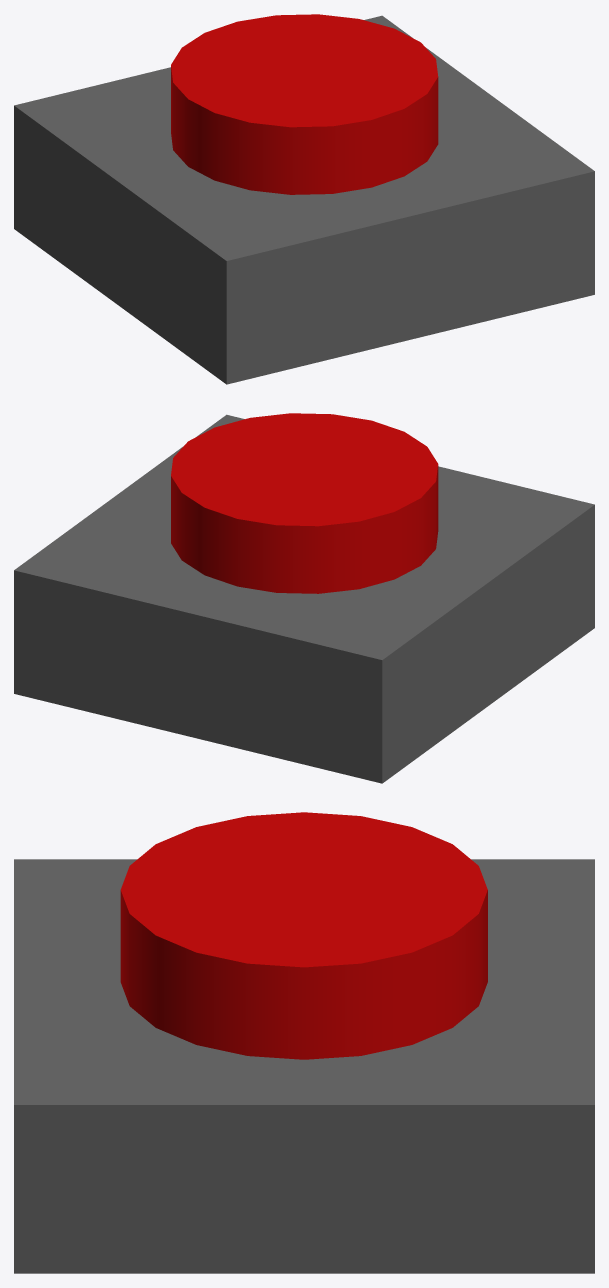
Rendered from btn_circle.FBX.
The picture shows the model from 3 angles, top to bottom: view 1: azimuth 30°, elevation 25°; view 2: azimuth 150°, elevation 25°; view 3: azimuth 270°, elevation 25°; orthographic projection. The views are drawn at different scales.
Visible parts, largest first — view 1: btn_CASE, btn_OFF, btn_ON; view 2: btn_CASE, btn_OFF, btn_ON; view 3: btn_CASE, btn_OFF, btn_ON.
Boxes of the visible parts, <box> form: btn_CASE: <box>14,15,594,384</box>; btn_OFF: <box>171,14,438,194</box>; btn_ON: <box>171,107,438,194</box>; btn_CASE: <box>14,414,594,783</box>; btn_OFF: <box>171,413,438,593</box>; btn_ON: <box>185,541,414,590</box>; btn_CASE: <box>14,859,594,1273</box>; btn_OFF: <box>120,812,487,1059</box>; btn_ON: <box>120,946,487,1059</box>.
Size of the model in its own units: 39.37 by 19.52 by 39.37.
